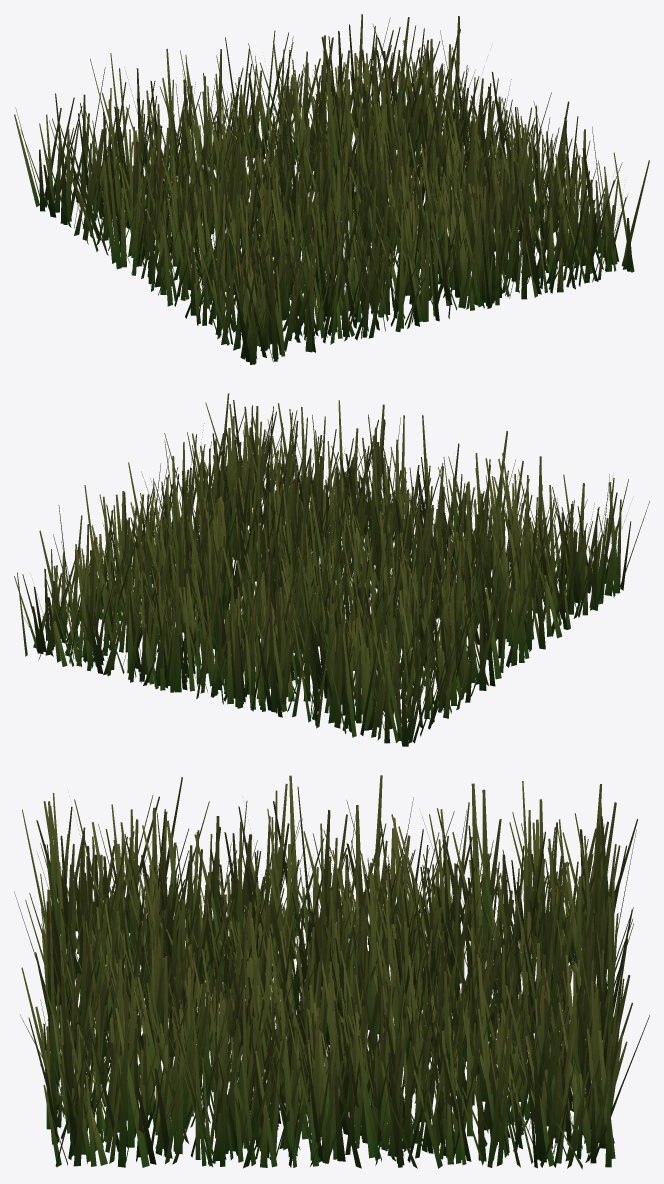
File: Turf_Wild_v3.glb
3 views of the same model, one above another, from view 1: azimuth 30°, elevation 25°; view 2: azimuth 150°, elevation 25°; view 3: azimuth 270°, elevation 25° (orthographic). The views are drawn at different scales.
Visible parts, largest first — view 1: Turf_Wild_v3; view 2: Turf_Wild_v3; view 3: Turf_Wild_v3.
Part boxes in pixels (x1,y1,x2,y2): Turf_Wild_v3: (14, 14, 649, 364); Turf_Wild_v3: (14, 393, 649, 746); Turf_Wild_v3: (14, 775, 649, 1169).
Size of the model in its own units: 1.37 by 0.3962 by 1.38.
